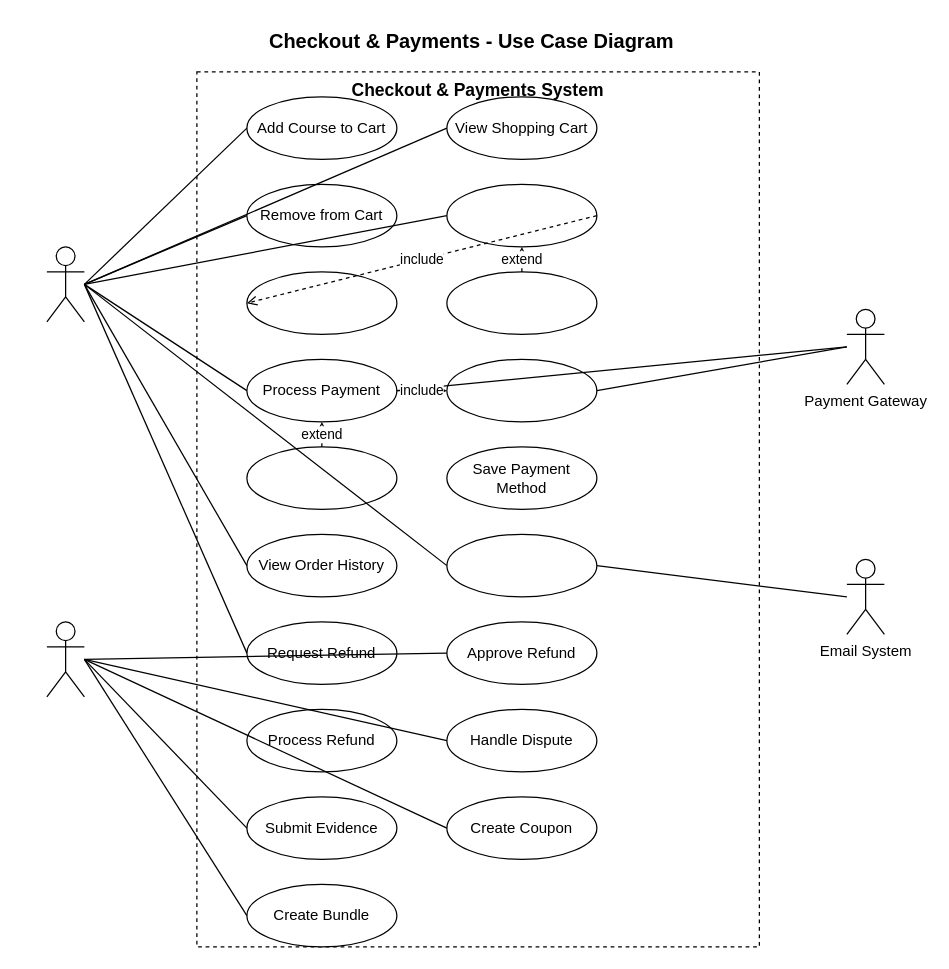
Image size: 949x969. Some labels were removed from this diagram. Here are the shapes that lost their labels. From the top down, the centre of each, then its label:
(521,215): Initiate Checkout
(65,284): Customer
(321,302): Enter Billing Info
(521,302): Apply Coupon Code
(521,390): Complete 3D Secure
(321,477): Retry Payment
(521,565): Download Invoice
(65,659): Administrator
